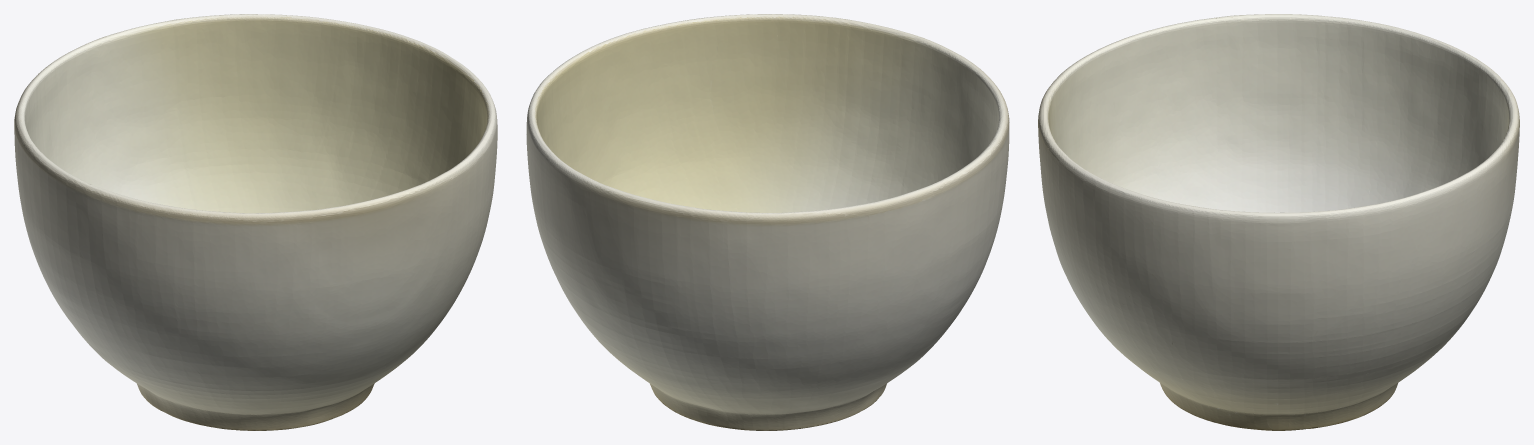
The model's file is bowl.fbx.
3 renders of one model, left to right at view 1: azimuth 30°, elevation 25°; view 2: azimuth 150°, elevation 25°; view 3: azimuth 270°, elevation 25°, orthographic.
Visible parts, largest first — view 1: world; view 2: world; view 3: world.
Part boxes in pixels (x1,y1,x2,y2): world: (14,14,497,430); world: (526,14,1009,430); world: (1038,14,1519,430).
Bounding box in the file's own units: 99.83 × 61.45 × 99.89.
